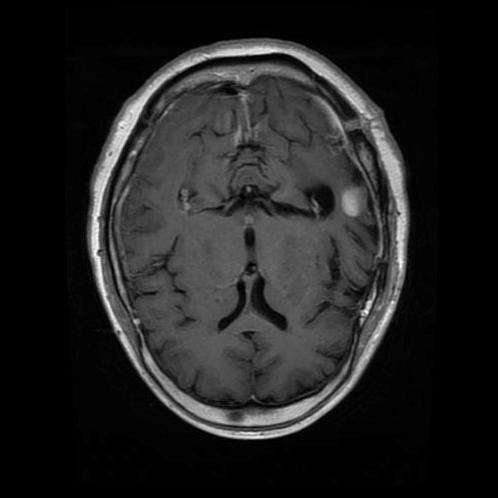Tumour-Glioma: (326, 167, 379, 231)
